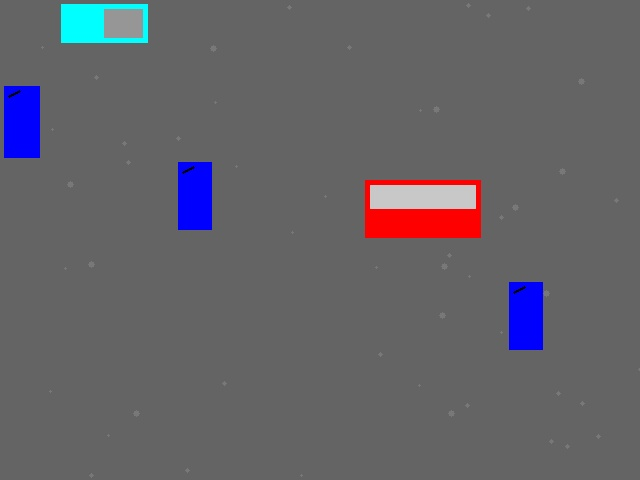car: (365, 180, 480, 237)
motorcycle: (4, 86, 39, 157), (509, 282, 542, 349), (178, 162, 211, 229)
truck: (61, 4, 147, 42)
